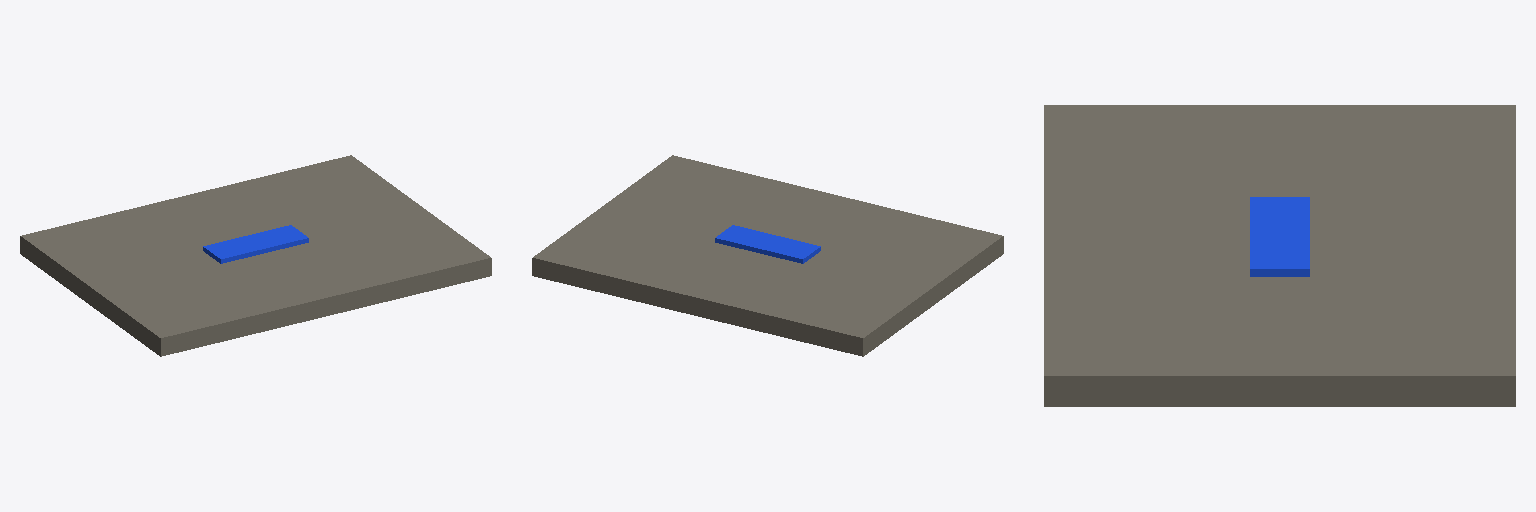
URDF robot description (parttoolgen_tabletop_proxy_v0):
<?xml version="1.0"?>
<robot name="parttoolgen_tabletop_proxy_v0">
  <link name="tabletop_proxy">
    <visual>
      <material name="wood">
        <color rgba="0.52 0.50 0.46 1.0"/>
      </material>
      <origin xyz="0 0 0"/>
      <geometry>
        <box size="0.75 0.55 0.04"/>
      </geometry>
    </visual>
    <collision>
      <origin xyz="0 0 0"/>
      <geometry>
        <box size="0.75 0.55 0.04"/>
      </geometry>
    </collision>

    <visual>
      <material name="target_patch">
        <color rgba="0.18 0.40 0.95 0.82"/>
      </material>
      <origin xyz="0.0 0.0 0.025"/>
      <geometry>
        <box size="0.2 0.07 0.01"/>
      </geometry>
    </visual>

    <inertial>
      <mass value="500"/>
      <friction value="1.0"/>
      <inertia ixx="1000.0" ixy="0.0" ixz="0.0" iyy="1000.0" iyz="0.0" izz="1000.0"/>
    </inertial>
  </link>
</robot>

--- Render facts (derived) ---
3 views of the same robot in one strip: view 1: azimuth 30°, elevation 25°; view 2: azimuth 150°, elevation 25°; view 3: azimuth 270°, elevation 25° (orthographic).
Model parttoolgen_tabletop_proxy_v0 with 1 links and 0 joints (none), rooted at tabletop_proxy, posed all joints at 0.
Links seen in each view (by area): view 1: tabletop_proxy; view 2: tabletop_proxy; view 3: tabletop_proxy.
Link boxes in pixels (x1,y1,x2,y2): tabletop_proxy: (20,155,491,356); tabletop_proxy: (532,155,1003,356); tabletop_proxy: (1044,105,1515,406).
Size in the robot's own frame: 0.75 by 0.55 by 0.05 metres.
Geometry: primitives only (box / cylinder / sphere), no mesh files.
